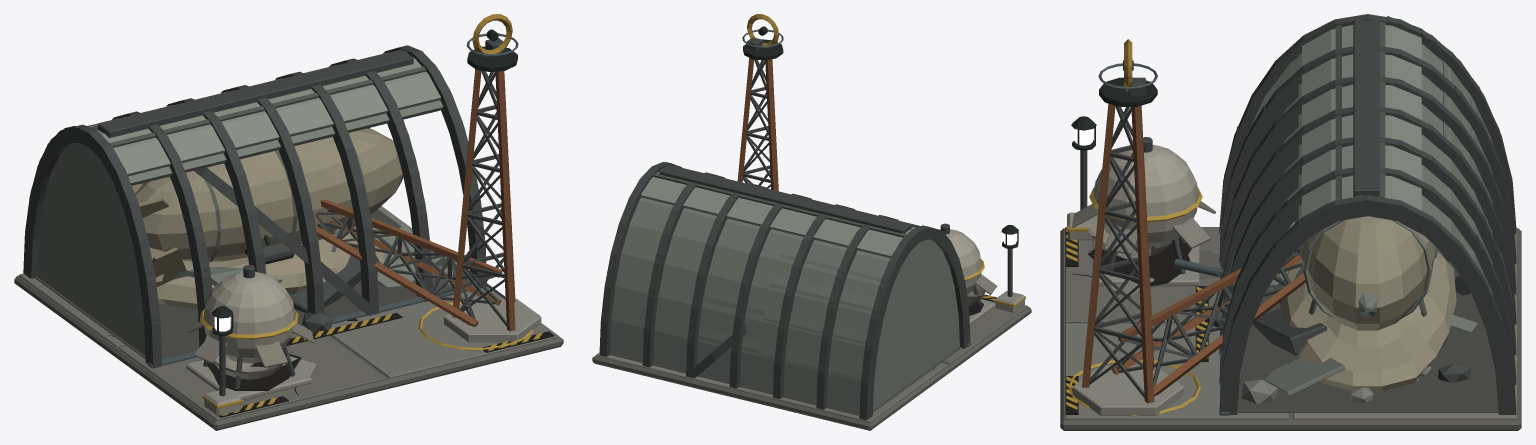
The model's file is t_zeppelin.glb.
3 views of the same model, side by side, from view 1: azimuth 30°, elevation 25°; view 2: azimuth 150°, elevation 25°; view 3: azimuth 270°, elevation 25° (orthographic). The views are drawn at different scales.
Visible parts, largest first — view 1: Intact structure, Site foundation, Ruined structure; view 2: Intact structure, Ruined structure, Site foundation; view 3: Intact structure, Site foundation, Ruined structure.
Part boxes in pixels (bbox=[...]): Intact structure: bbox=[23, 14, 518, 389]; Site foundation: bbox=[14, 206, 563, 430]; Ruined structure: bbox=[23, 71, 502, 390]; Intact structure: bbox=[599, 14, 984, 420]; Ruined structure: bbox=[644, 162, 997, 418]; Site foundation: bbox=[592, 225, 1031, 430]; Intact structure: bbox=[1082, 14, 1516, 414]; Site foundation: bbox=[1060, 116, 1521, 430]; Ruined structure: bbox=[1071, 16, 1516, 414].
Bounding box in the file's own units: 7.8 × 6.85 × 7.8.
